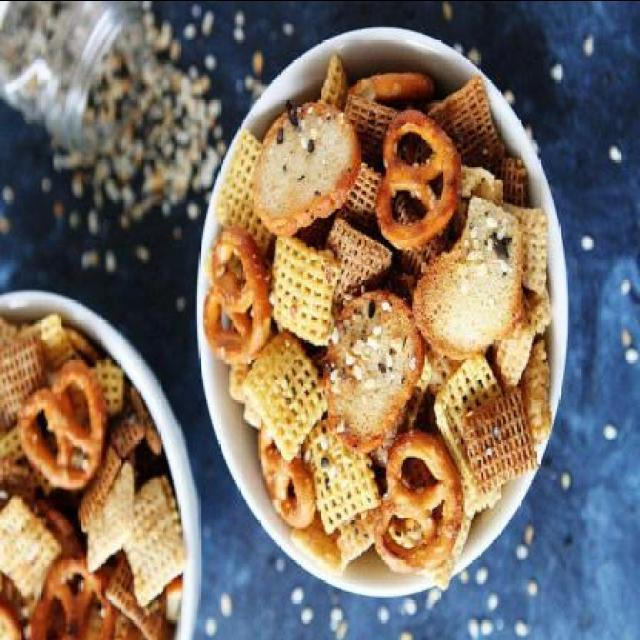Salatini packaged: (216, 46, 553, 582), (2, 284, 185, 638)
